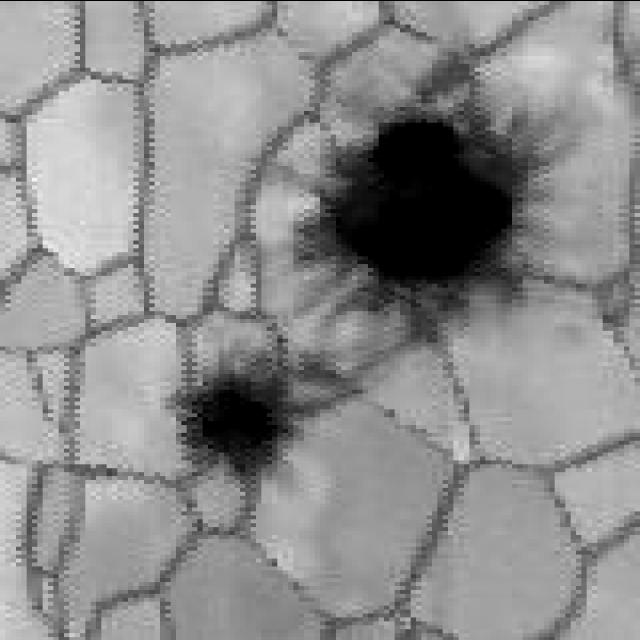good_void: (290, 97, 557, 343), (173, 350, 364, 481)
